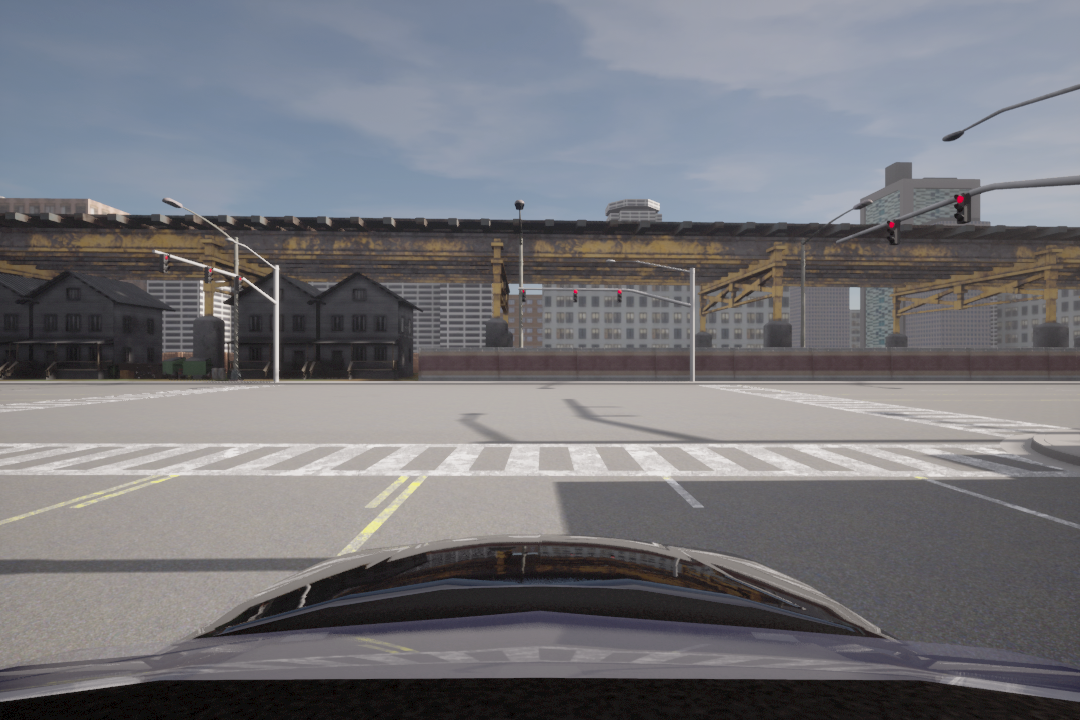TrafficLight: (955, 194, 976, 224), (884, 218, 898, 245), (159, 251, 172, 276), (204, 264, 214, 287), (235, 275, 246, 294), (614, 289, 623, 304), (571, 287, 579, 302), (520, 287, 528, 301)
walkside: (1, 437, 1073, 489)
